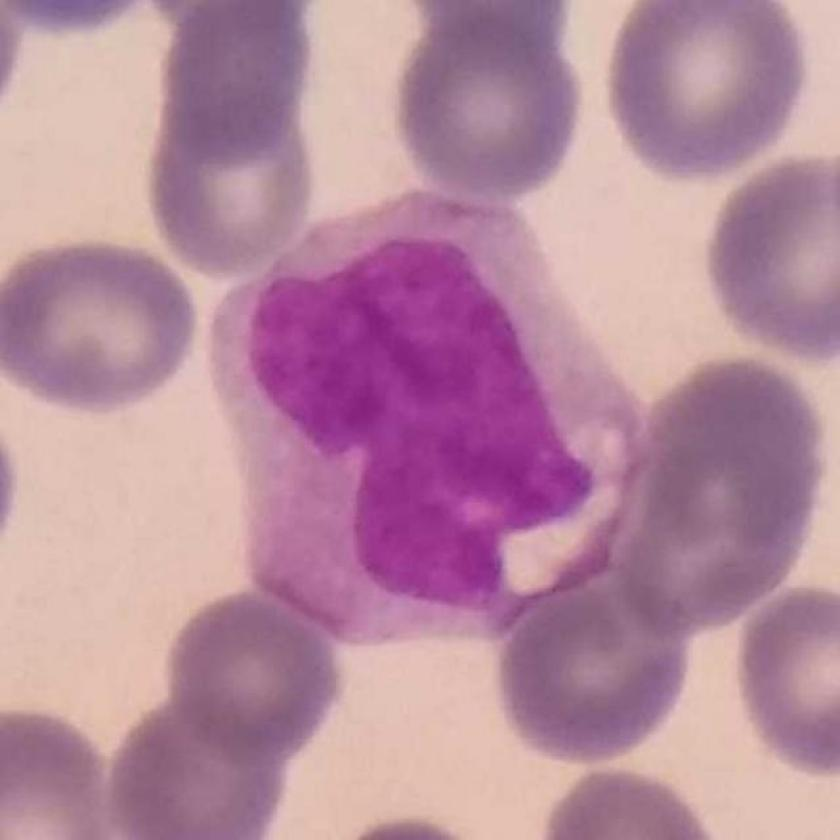monocyte: (205, 168, 658, 653)
